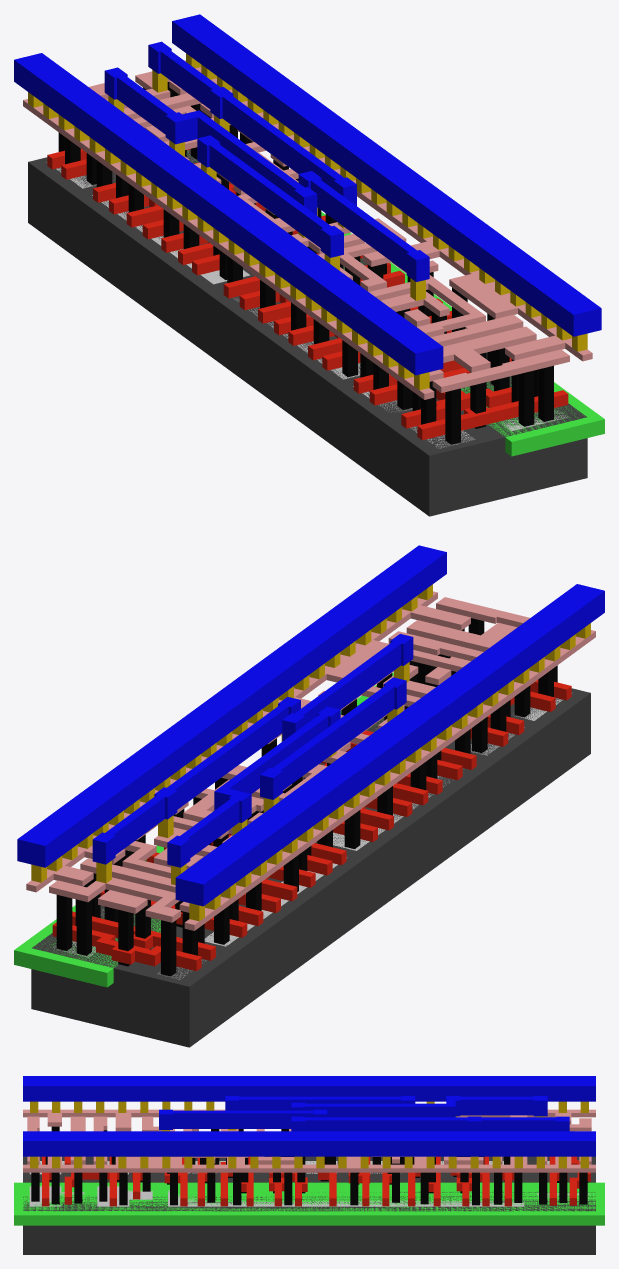
The model's file is sky130_fd_sc_hd__dfbbp_1.obj.
3 renders of one model, top to bottom at view 1: azimuth 30°, elevation 25°; view 2: azimuth 150°, elevation 25°; view 3: azimuth 270°, elevation 25°, orthographic. The views are drawn at different scales.
Visible parts, largest first — view 1: metal1, subs, li, poly, licon, mcon, nwell, diff; view 2: metal1, subs, li, licon, poly, mcon, nwell, diff; view 3: metal1, subs, nwell, li, poly, licon, mcon, tap.
Boxes of the visible parts, box(x1,y1,x2,y2) form: metal1: box(14, 14, 601, 375); subs: box(28, 149, 587, 516); li: box(23, 60, 592, 399); poly: box(47, 149, 568, 440); licon: box(58, 82, 553, 444); mcon: box(28, 53, 587, 390); nwell: box(187, 150, 604, 456); diff: box(46, 162, 475, 448); metal1: box(17, 545, 604, 906); subs: box(31, 688, 590, 1047); li: box(26, 591, 595, 930); licon: box(56, 618, 557, 976); poly: box(52, 680, 571, 971); mcon: box(31, 584, 590, 921); nwell: box(14, 672, 393, 987); diff: box(157, 693, 572, 979); metal1: box(23, 1076, 595, 1156); subs: box(23, 1156, 595, 1254); nwell: box(14, 1182, 604, 1225); li: box(23, 1109, 595, 1172); poly: box(42, 1156, 590, 1206); licon: box(31, 1126, 588, 1205); mcon: box(30, 1101, 588, 1168); tap: box(29, 1186, 589, 1206).
Size of the model in its own units: 3.2 by 2.74 by 12.34.
